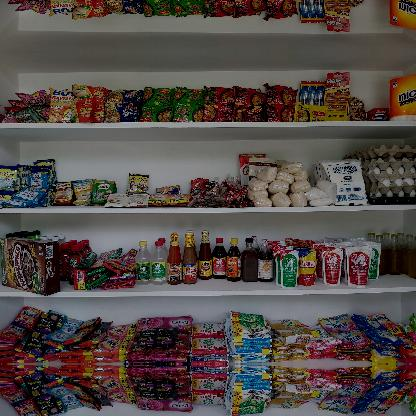Koko-Krunch: (0, 233, 63, 298)
